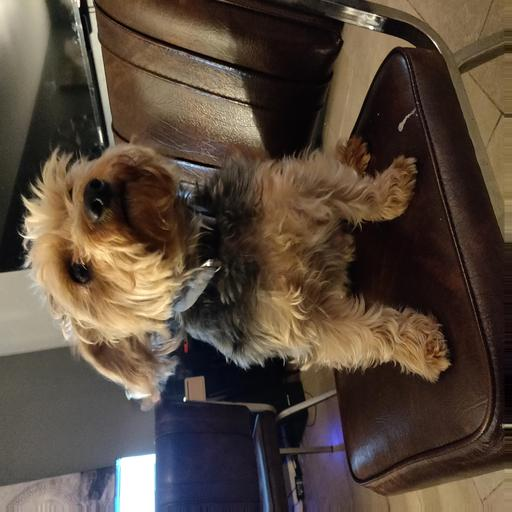dog: (30, 110, 300, 380)
